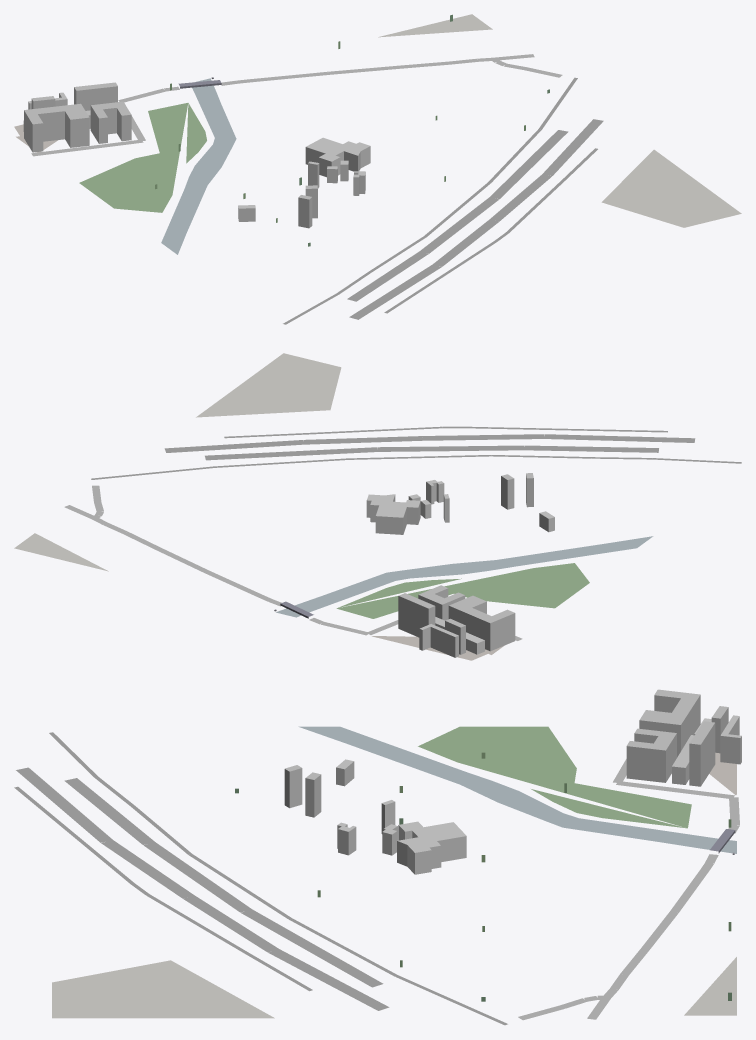
3 views of the same model, one above another, from view 1: azimuth 30°, elevation 25°; view 2: azimuth 150°, elevation 25°; view 3: azimuth 270°, elevation 25° (orthographic). The views are drawn at different scales.
Bounding box in the file's own units: 523 × 35.45 × 532.
